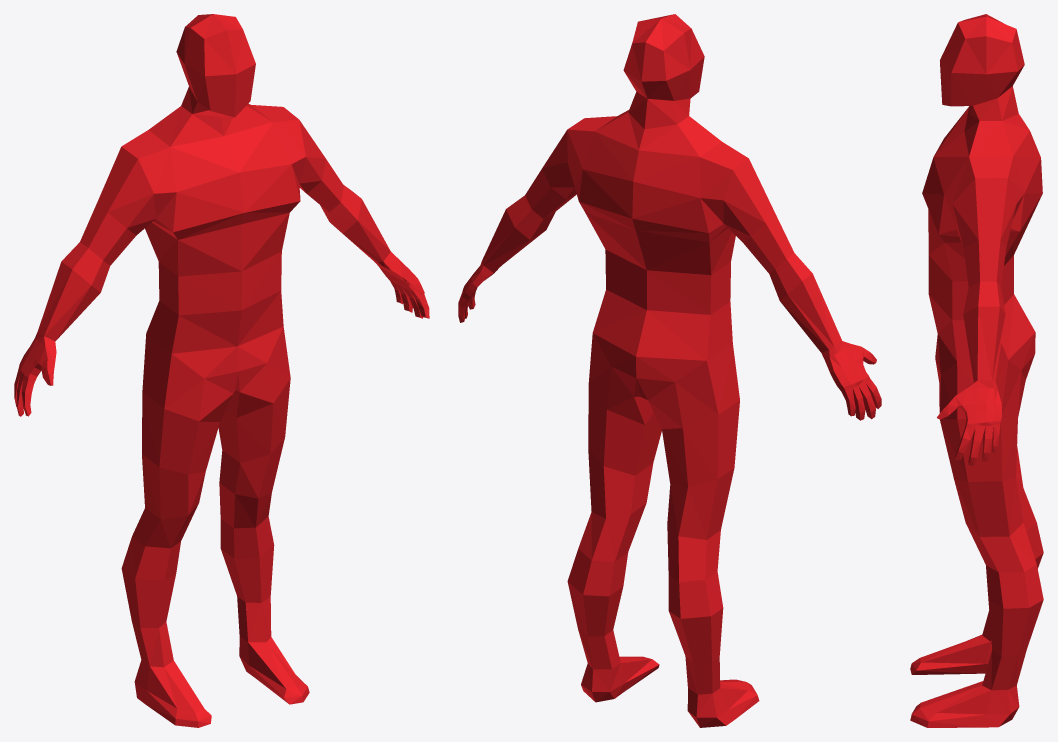
The model's file is low_poly_male_base.glb.
The picture shows the model from 3 angles, left to right: view 1: azimuth 30°, elevation 25°; view 2: azimuth 150°, elevation 25°; view 3: azimuth 270°, elevation 25°; orthographic projection. The views are drawn at different scales.
Parts seen in each view (by area): view 1: node_id8; view 2: node_id8; view 3: node_id8.
Part boxes in pixels (x1,y1,x2,y2): node_id8: (14,14,429,727); node_id8: (458,14,881,727); node_id8: (910,14,1043,727).
Size of the model in its own units: 0.2073 by 0.3285 by 0.0586.
1 material, 1 textured.
